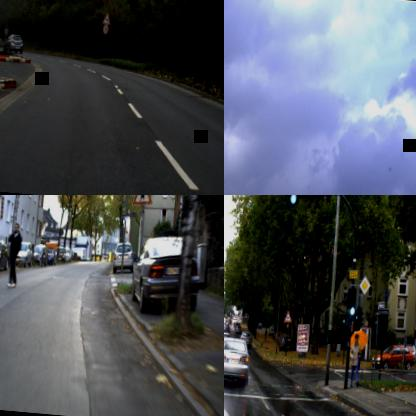bend right: (101, 12, 112, 24)
priority at next intersection: (131, 195, 155, 206)
priority road: (358, 274, 372, 296)
slippery road: (284, 310, 292, 322)
speed limit 30: (102, 24, 108, 35)
